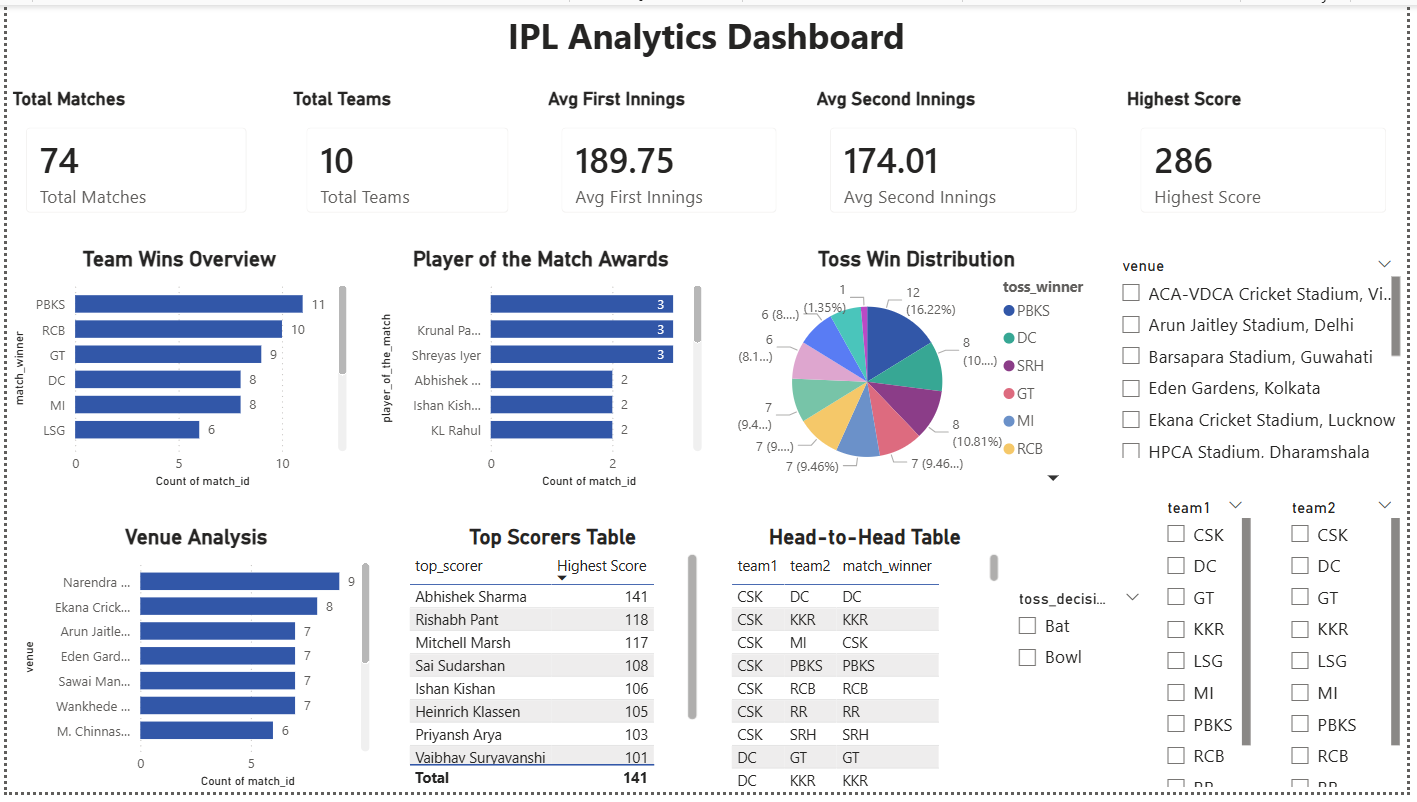

The page's visual inventory and layout, read from the dashboard file:
{"tool":"powerbi","page":{"name":"Page 1","canvas":[1280,720],"ordinal":0},"visuals":[{"type":"cardVisual","title":"Total Matches","fields":{"Data":["matches.Total Matches"]},"box":[0,75.5,236,131.7],"z":0},{"type":"cardVisual","title":"Total Teams","fields":{"Data":["matches.Total Teams"]},"box":[256.6,75.5,219.6,131.7],"z":1000},{"type":"cardVisual","title":"Avg First Innings","fields":{"Data":["matches.Avg First Innings"]},"box":[490.6,75.7,231.7,131.7],"z":2000},{"type":"cardVisual","title":"Avg Second Innings","fields":{"Data":["matches.Avg Second Innings"]},"box":[735.9,75.7,260.4,131.7],"z":3000},{"type":"cardVisual","title":"Highest Score","fields":{"Data":["matches.Highest Score"]},"box":[1019.6,75.5,259.4,131.7],"z":4000},{"type":"clusteredBarChart","title":"Team Wins Overview","fields":{"Category":["matches.match_winner"],"Y":["CountNonNull(matches.match_id)"]},"box":[0,221.1,315.6,224.9],"z":5000},{"type":"pieChart","title":"Toss Win Distribution","fields":{"Category":["matches.toss_winner"],"Y":["Count(matches.match_id)"]},"box":[657.6,221.1,349.6,224.9],"z":6000},{"type":"clusteredBarChart","title":"Player of the Match Awards","fields":{"Category":["matches.player_of_the_match"],"Y":["CountNonNull(matches.match_id)"]},"box":[336.4,221.1,304.3,224.9],"z":7000},{"type":"clusteredBarChart","title":"Venue Analysis","fields":{"Category":["matches.venue"],"Y":["CountNonNull(matches.match_id)"]},"box":[9.4,474.3,326.9,245.7],"z":8000},{"type":"tableEx","title":"Top Scorers Table","fields":{"Values":["matches.top_scorer","Max(matches.highscore)"]},"box":[362.8,474.3,274,245.7],"z":9000},{"type":"tableEx","title":"Head-to-Head Table","fields":{"Values":["matches.team1","matches.team2","matches.match_winner"]},"box":[657.6,474.3,255.1,245.7],"z":10000},{"type":"slicer","fields":{"Values":["matches.team1"]},"box":[1048.8,446,94.5,274],"z":11000},{"type":"slicer","fields":{"Values":["matches.team2"]},"box":[1162.2,446,117.2,274],"z":12000},{"type":"slicer","fields":{"Values":["matches.venue"]},"box":[1007.3,224.9,272.1,194.6],"z":12001},{"type":"slicer","fields":{"Values":["matches.toss_decision"]},"box":[912.8,529.1,136.1,109.6],"z":12002},{"type":"textbox","box":[0,0,1279.4,75.6],"z":12003}]}

Visuals, with their boxes in screenshot pixels (x1, y1, x2, y2), scaled from the page's 1280x720 canvas onto the 1417x802 screenshot:
"Total Matches" cardVisual: bbox=[0, 84, 261, 231]
"Total Teams" cardVisual: bbox=[284, 84, 527, 231]
"Avg First Innings" cardVisual: bbox=[543, 84, 800, 231]
"Avg Second Innings" cardVisual: bbox=[815, 84, 1103, 231]
"Highest Score" cardVisual: bbox=[1129, 84, 1416, 231]
"Team Wins Overview" clusteredBarChart: bbox=[0, 246, 349, 497]
"Toss Win Distribution" pieChart: bbox=[728, 246, 1115, 497]
"Player of the Match Awards" clusteredBarChart: bbox=[372, 246, 709, 497]
"Venue Analysis" clusteredBarChart: bbox=[10, 528, 372, 801]
"Top Scorers Table" tableEx: bbox=[402, 528, 705, 801]
"Head-to-Head Table" tableEx: bbox=[728, 528, 1010, 801]
slicer - matches.team1: bbox=[1161, 497, 1266, 801]
slicer - matches.team2: bbox=[1287, 497, 1416, 801]
slicer - matches.venue: bbox=[1115, 251, 1416, 467]
slicer - matches.toss_decision: bbox=[1010, 589, 1161, 711]
textbox: bbox=[0, 0, 1416, 84]
